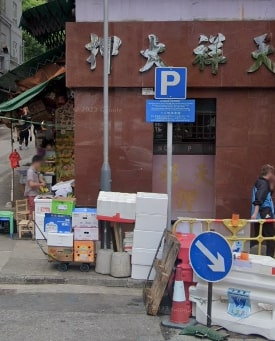Parking: (150, 63, 191, 100)
